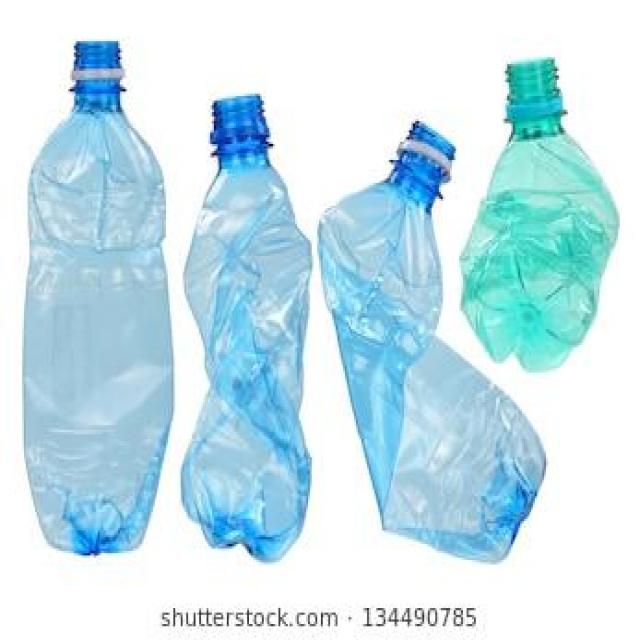plastic_bottle: (315, 105, 569, 569), (13, 36, 183, 569), (173, 96, 321, 562), (454, 49, 629, 380)
